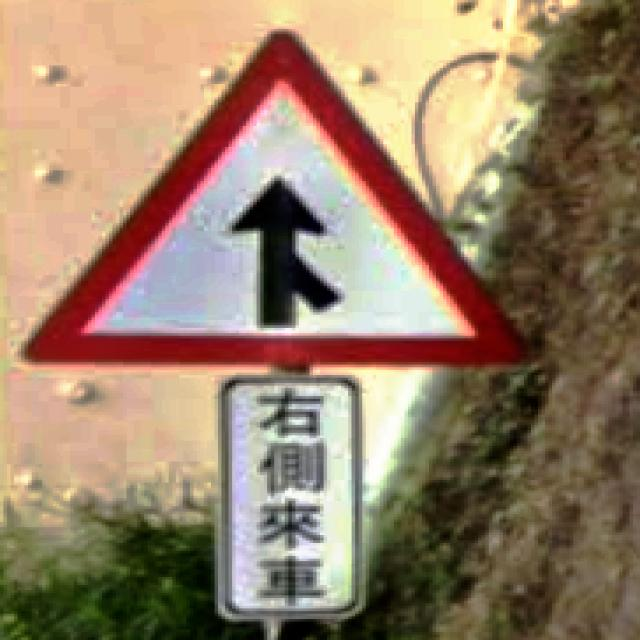rightmerge: (24, 31, 531, 364)
